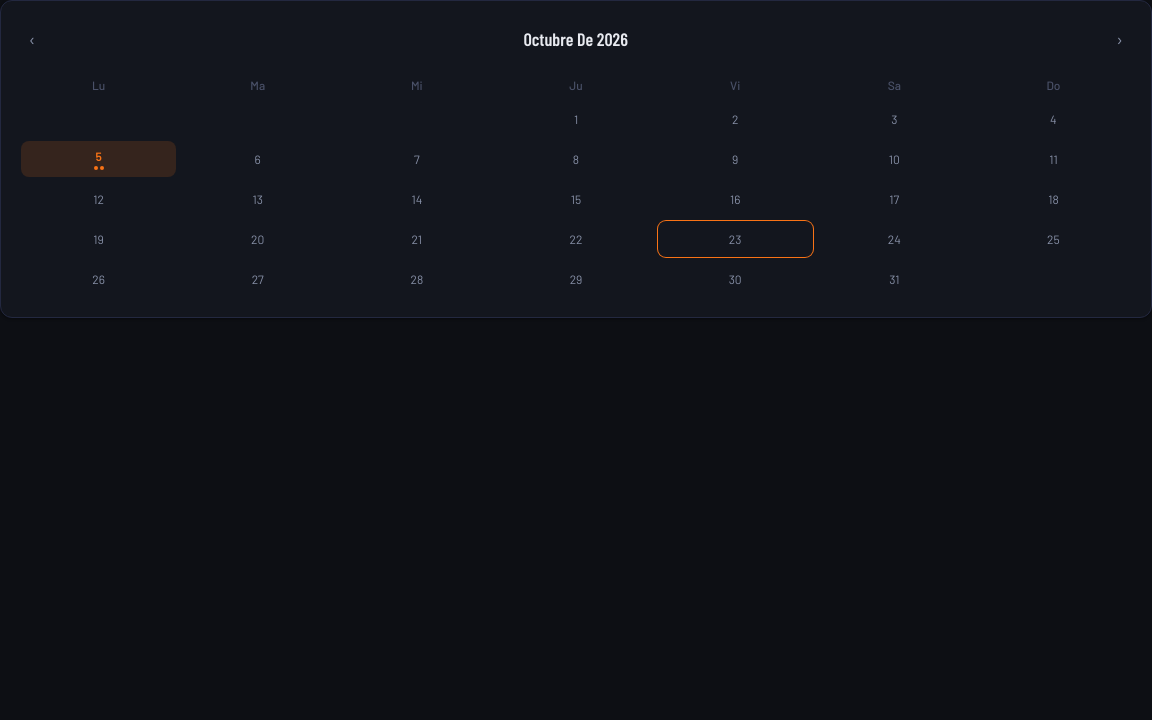
Test case: Calendar day modal (dashboard UX) › closes when the X button is pressed
Click the button "5". click: click(99, 159)
box: [21,141,176,177]
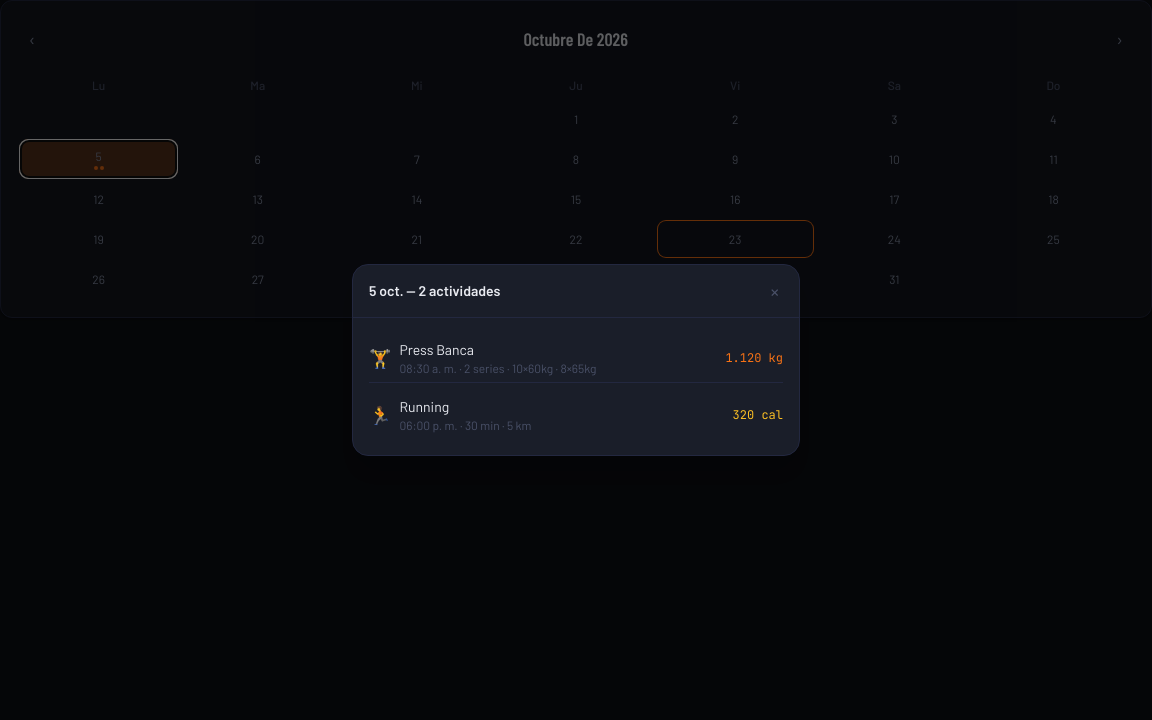
Check: the dialog is shown, box [352,264,800,456]
Click the button named "Cerrar". click: click(775, 291)
box: [766,281,783,301]
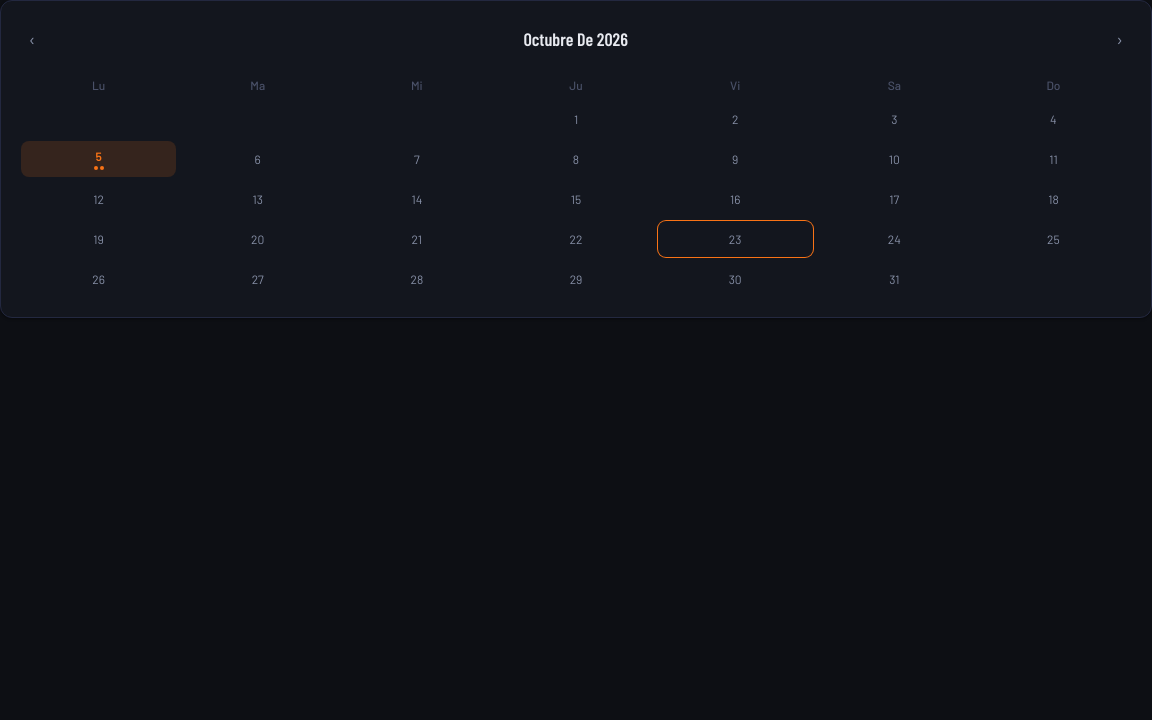
Check: the dialog is gone
